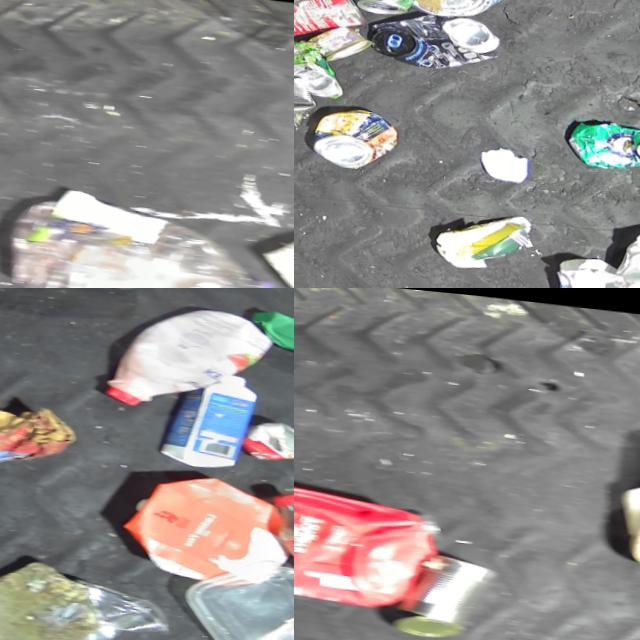can: (393, 550, 494, 639), (371, 0, 502, 67), (313, 99, 400, 167), (568, 108, 640, 164), (294, 34, 346, 94), (294, 0, 366, 43), (307, 17, 372, 61), (241, 404, 294, 451), (294, 61, 318, 134), (414, 0, 506, 14)
non_white_jug: (294, 463, 456, 610), (101, 288, 273, 409), (120, 455, 286, 577), (159, 356, 258, 462)
plastic_bottle: (0, 176, 282, 288), (269, 477, 294, 588)
